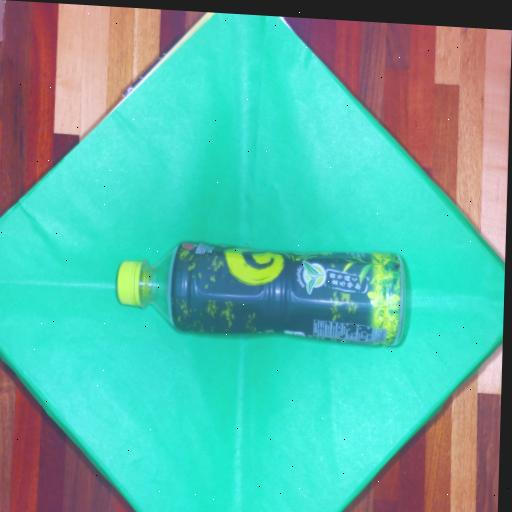bottle: (105, 225, 415, 357)
